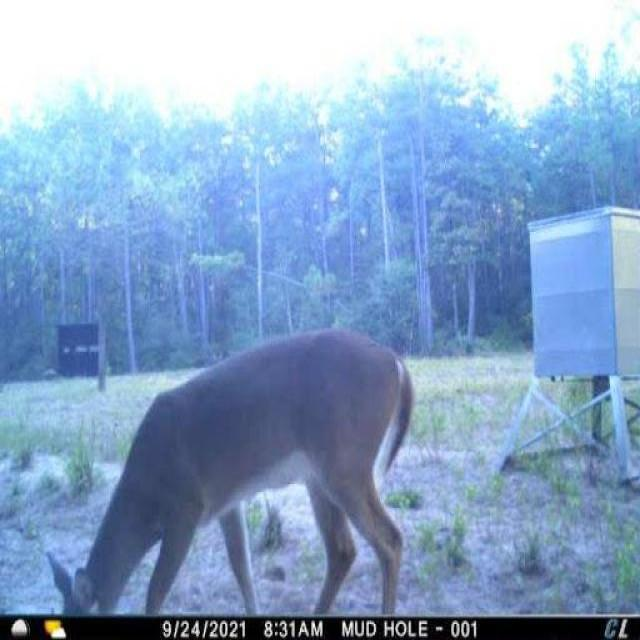deer: (45, 320, 416, 619)
